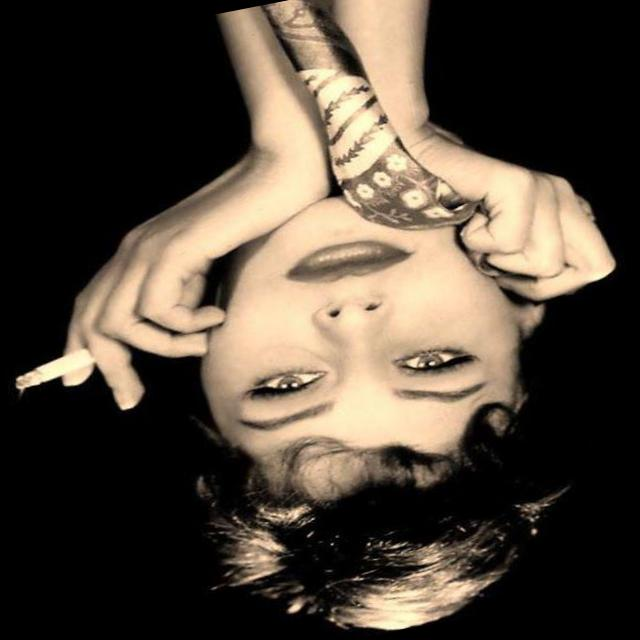cigarette: (5, 326, 138, 411)
